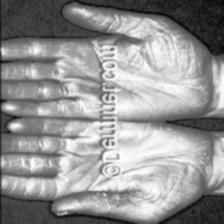Non-Cancerous Skin Condition: (6, 117, 72, 197), (0, 40, 67, 100)
